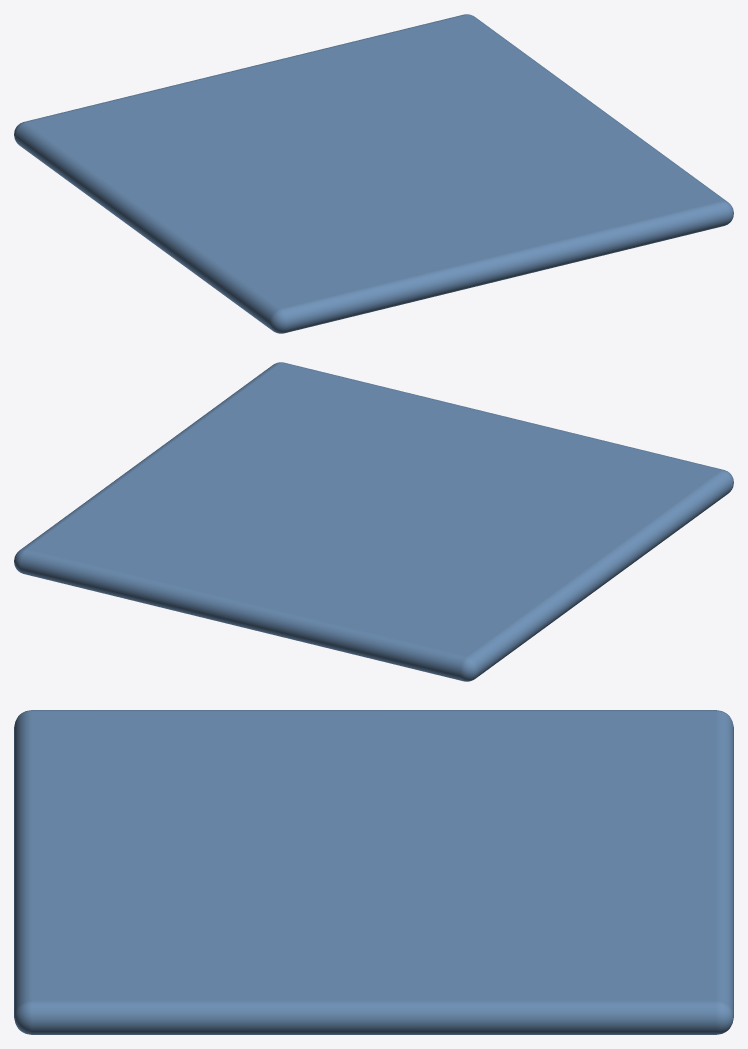
Rendered from herramienta_velcro.glb.
3 views of the same model, one above another, from view 1: azimuth 30°, elevation 25°; view 2: azimuth 150°, elevation 25°; view 3: azimuth 270°, elevation 25° (orthographic). The views are drawn at different scales.
Parts seen in each view (by area): view 1: Velcro; view 2: Velcro; view 3: Velcro.
Boxes of the visible parts, bbox=[...] form: Velcro: bbox=[14, 14, 733, 333]; Velcro: bbox=[14, 362, 733, 681]; Velcro: bbox=[14, 710, 733, 1034].
Bounding box in the file's own units: 0.8 × 0.04 × 0.8.
